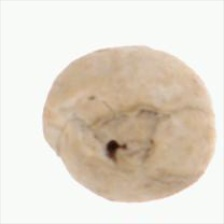L3: (85, 100, 157, 160)
L4: (42, 46, 216, 202)
